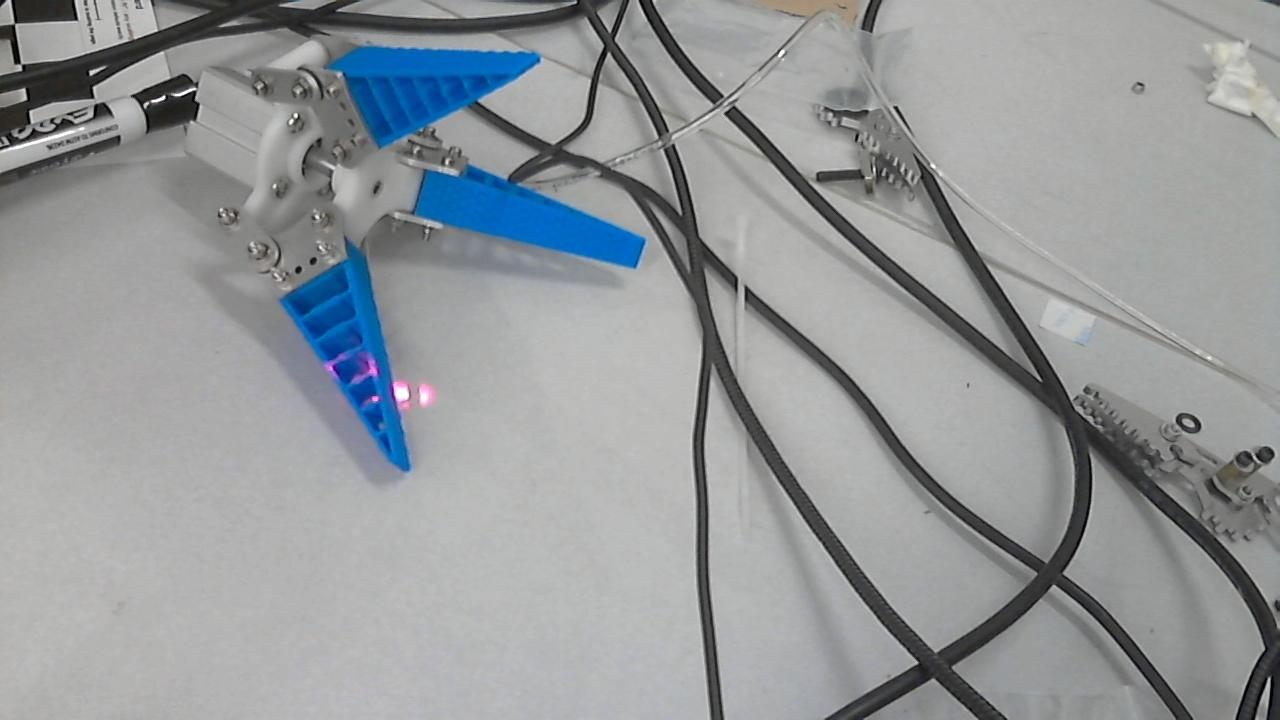Object robotic gripper finger assembly - Material plastic - Color blue - Pdfname: (301, 339, 428, 425)
